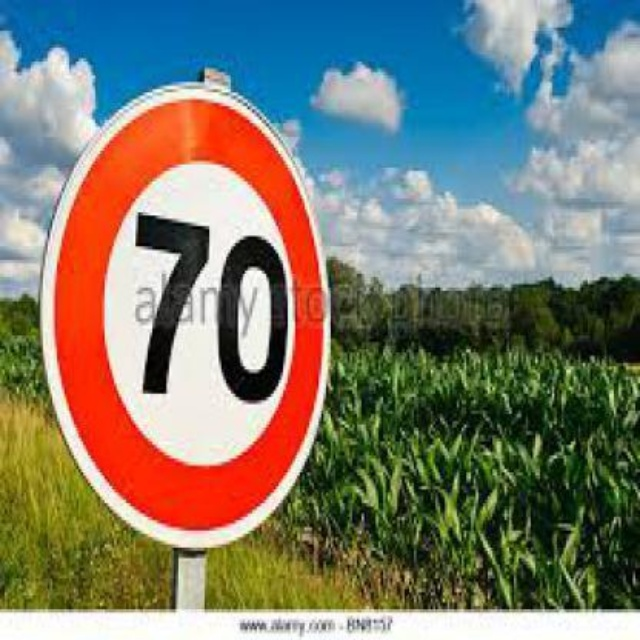Tốc độ tối đa cho phép 70km/h: (49, 88, 329, 548)
